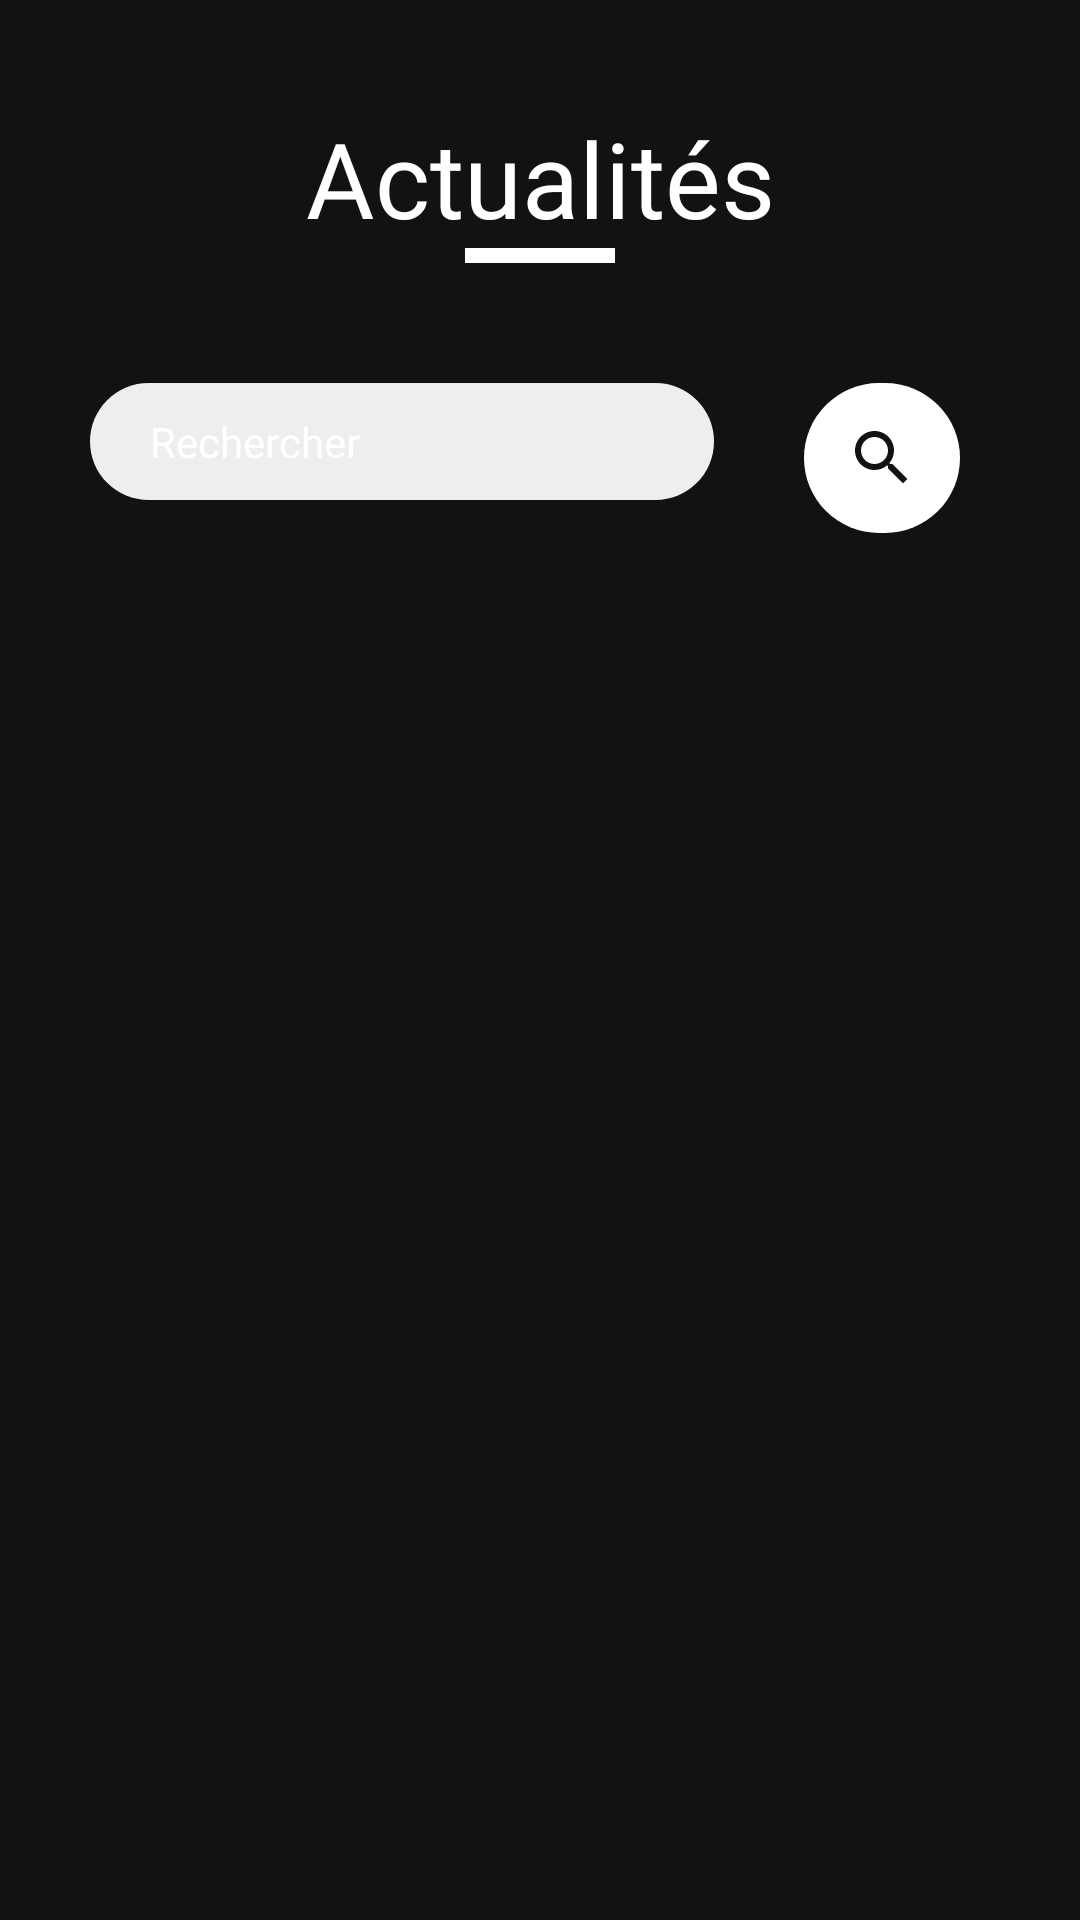

Where to tap for icons on this 1080*1920 app screen, as (x,y):
Bouton de rechcerche: (882,458)
